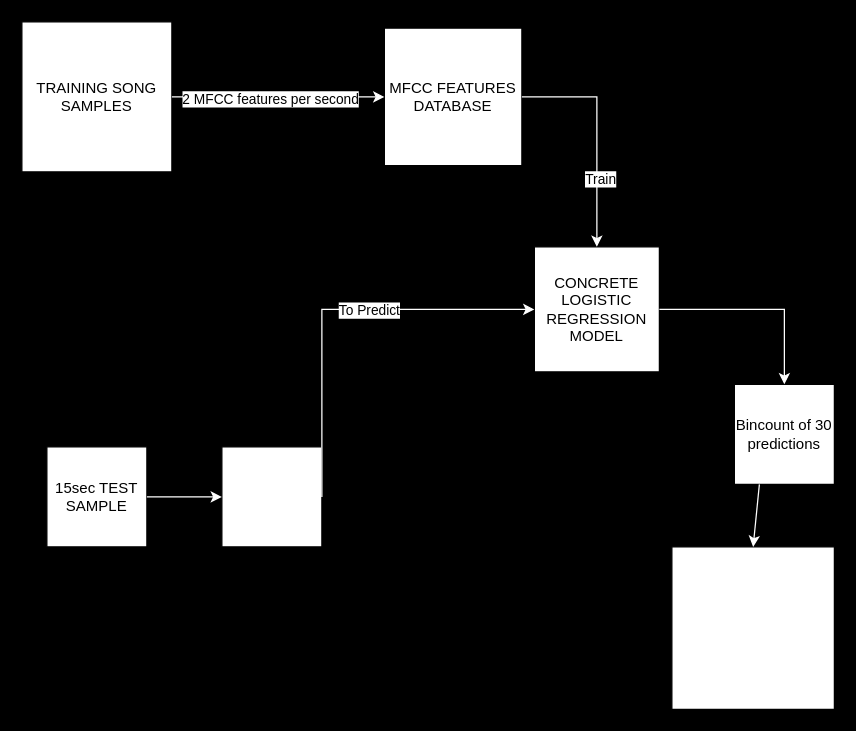
The diagram is 856 pixels wide and 731 high, and some of its shapes have lost their labels. Each missing label, with the box of its shape:
30 MFCC FEATURES: (221, 446, 322, 547)
Song label prediction: argmax if the max bincount > 5 else "Unknown Song": (671, 546, 834, 709)
